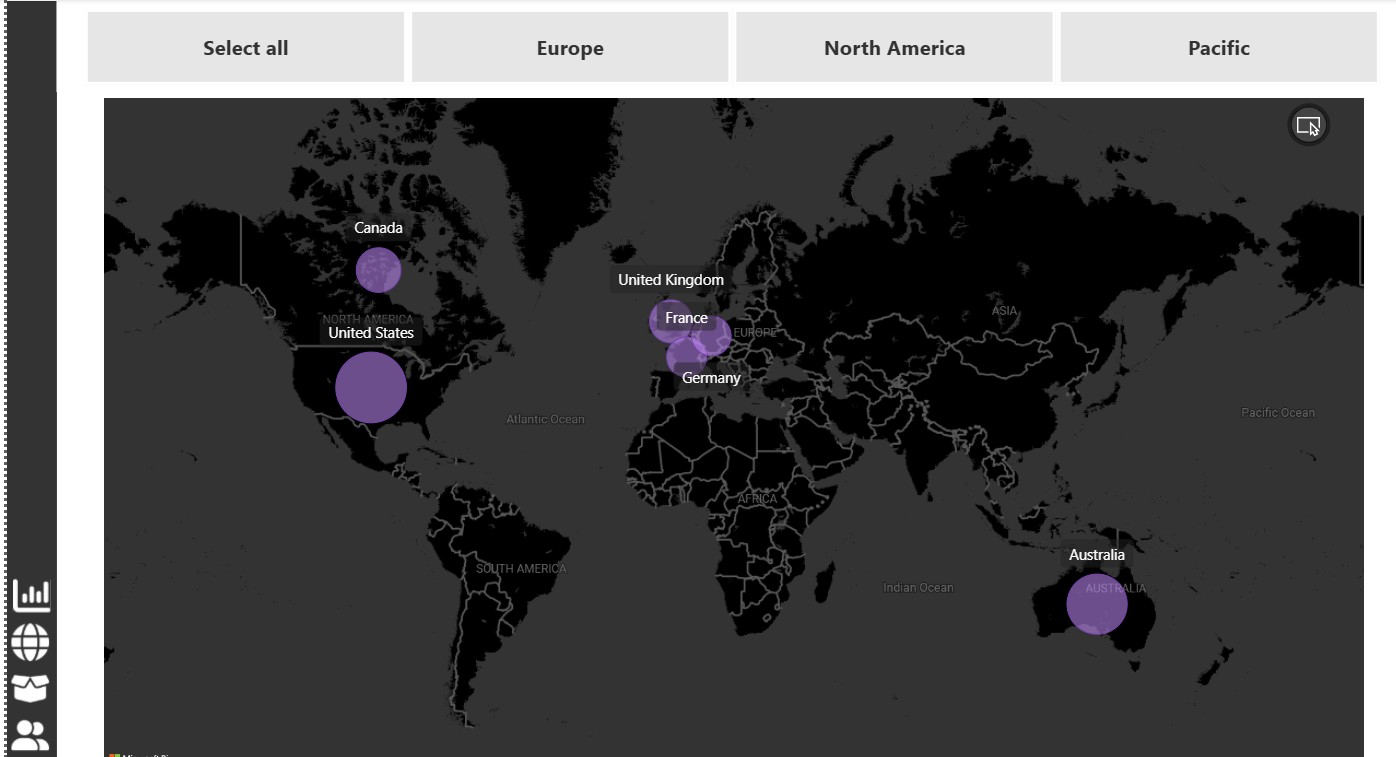

The page's visual inventory and layout, read from the dashboard file:
{"tool":"powerbi","page":{"name":"Map","canvas":[1280,720],"ordinal":1},"visuals":[{"type":"shape","box":[0,3.2,45.7,716.7],"z":0},{"type":"actionButton","box":[1.6,526.1,64.6,42.5],"z":1000,"group":"g1"},{"type":"map","fields":{"Category":["Territory Lookup.Country"],"Size":["Measure Table.Total Orders"]},"box":[83.7,86.5,1162.4,629.9],"z":1000},{"type":"slicer","fields":{"Values":["Territory Lookup.Continent"]},"box":[45.7,3.2,1234.9,83.5],"z":2000},{"type":"actionButton","box":[0,568.6,64.6,42.5],"z":2000,"group":"g1"},{"type":"actionButton","box":[0,611.2,64.6,42.5],"z":3000,"group":"g1"},{"type":"group","id":"g1","title":"Navigation Buttons","box":[0,526.1,66.2,170.1],"z":3000},{"type":"actionButton","box":[0,653.7,64.6,42.5],"z":4000,"group":"g1"}]}

Visuals, with their boxes on the page's 1280x720 design canvas (x1, y1, x2, y2). These are canvas units, not pixel positions in the 1396x757 screenshot, which may show the page scaled, cropped or inside an application window:
shape: {"x1": 0, "y1": 3, "x2": 46, "y2": 720}
actionButton: {"x1": 2, "y1": 526, "x2": 66, "y2": 569}
map - Territory Lookup.Country x Measure Table.Total Orders: {"x1": 84, "y1": 86, "x2": 1246, "y2": 716}
slicer - Territory Lookup.Continent: {"x1": 46, "y1": 3, "x2": 1281, "y2": 87}
actionButton: {"x1": 0, "y1": 569, "x2": 65, "y2": 611}
actionButton: {"x1": 0, "y1": 611, "x2": 65, "y2": 654}
"Navigation Buttons" group: {"x1": 0, "y1": 526, "x2": 66, "y2": 696}
actionButton: {"x1": 0, "y1": 654, "x2": 65, "y2": 696}
